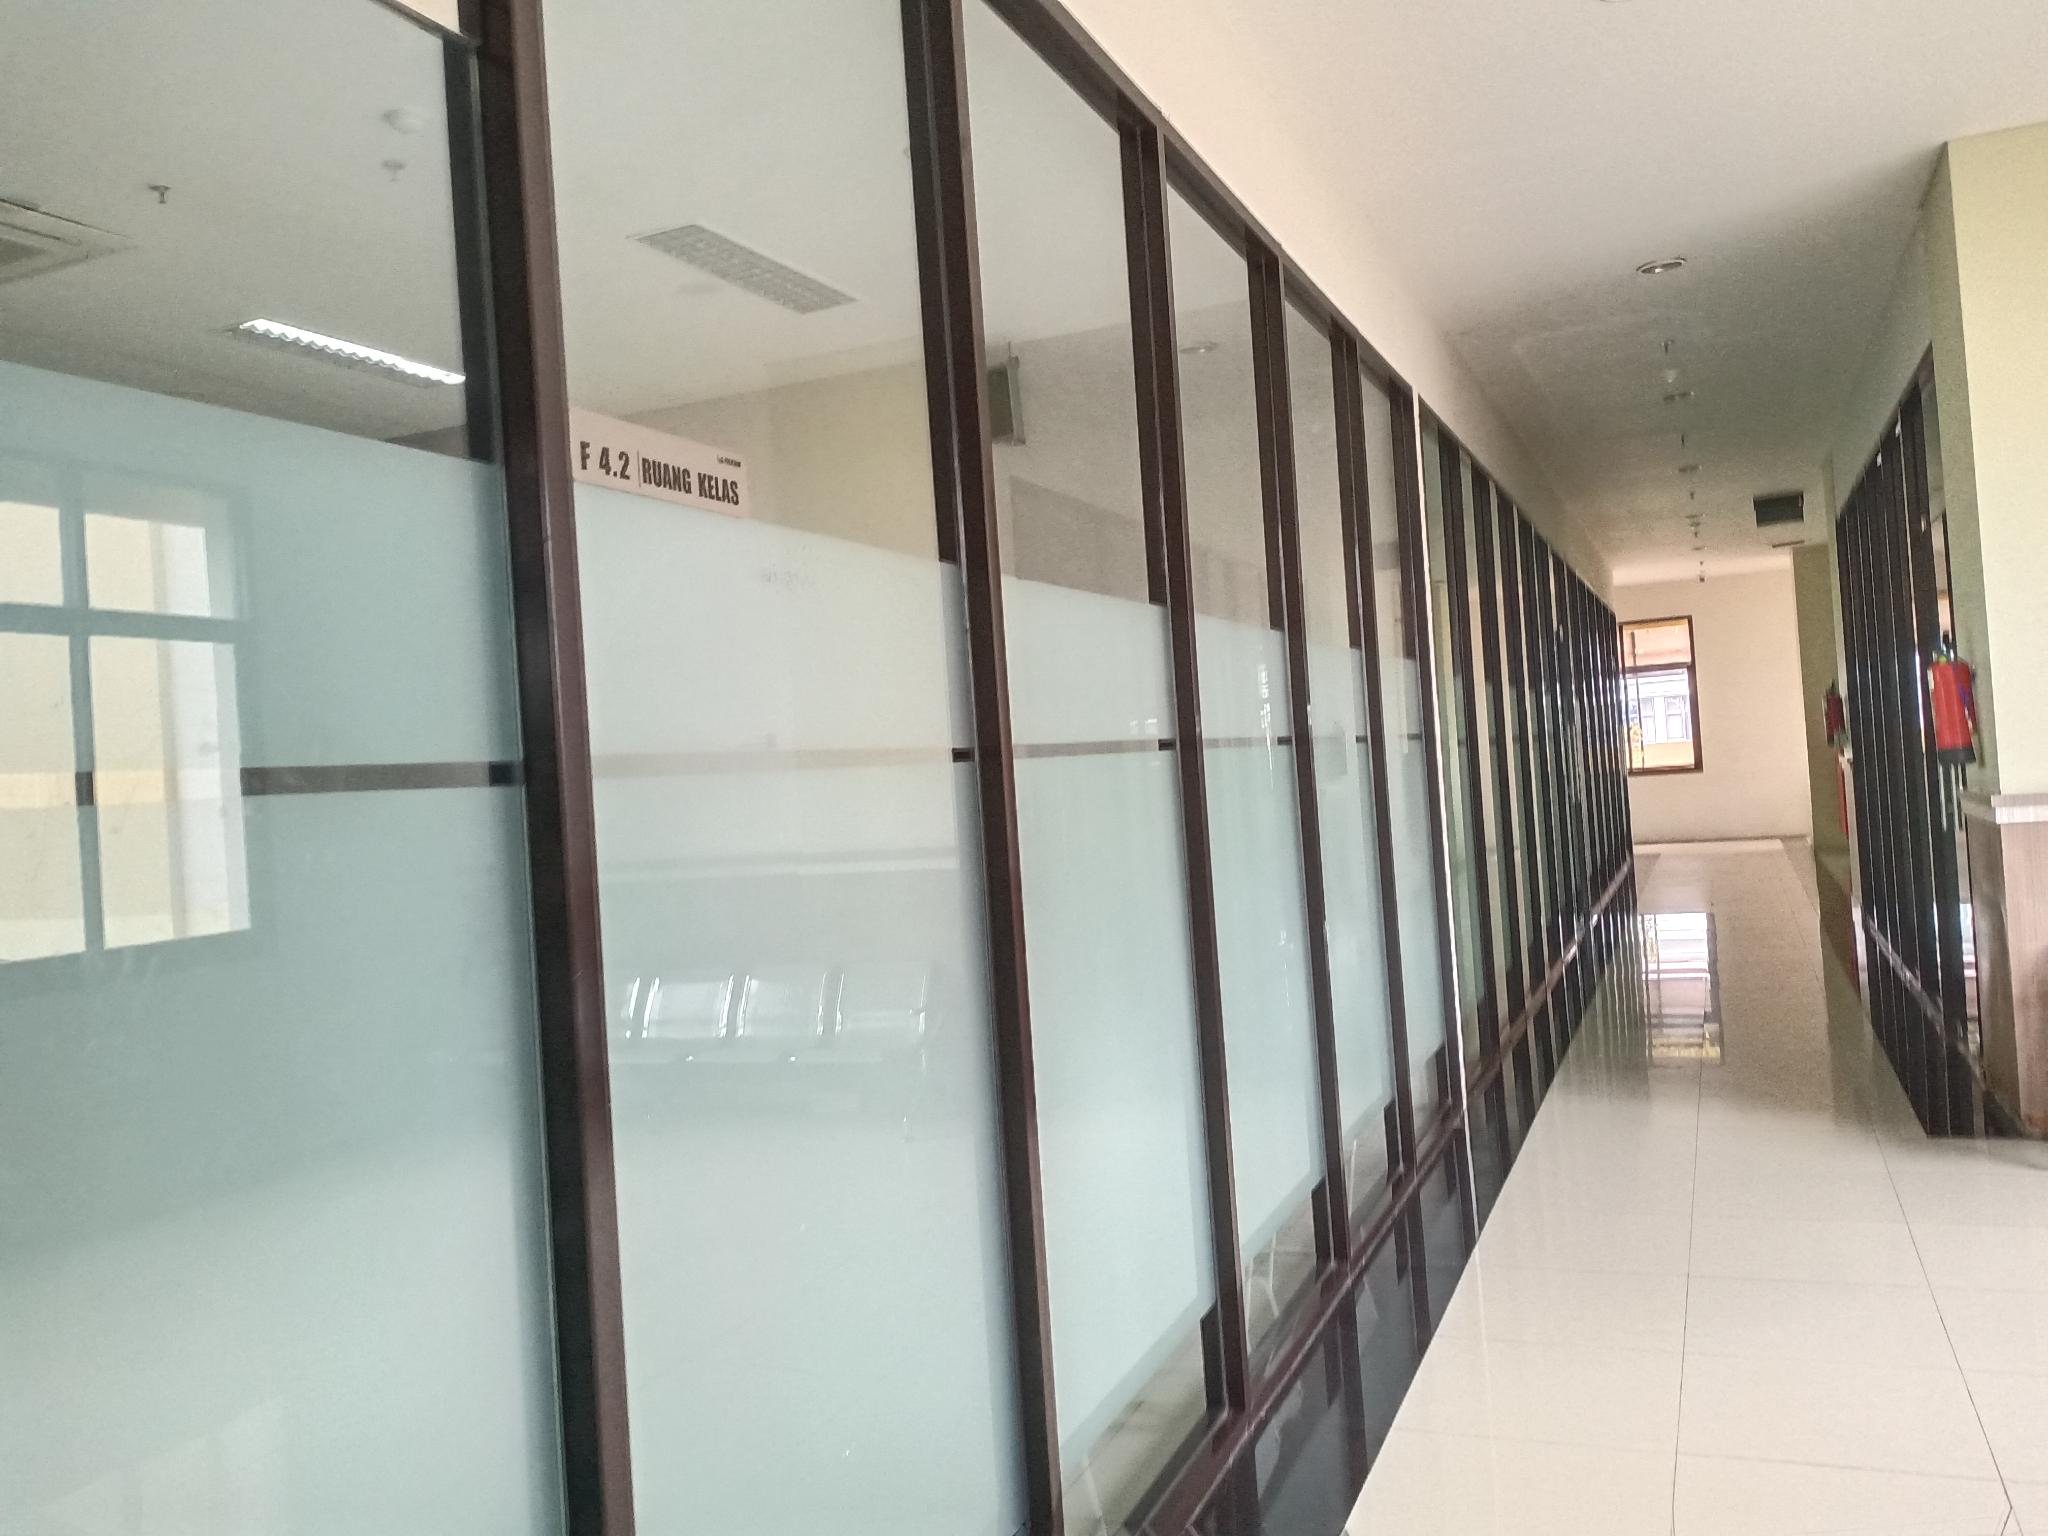plate: (569, 407, 748, 520)
